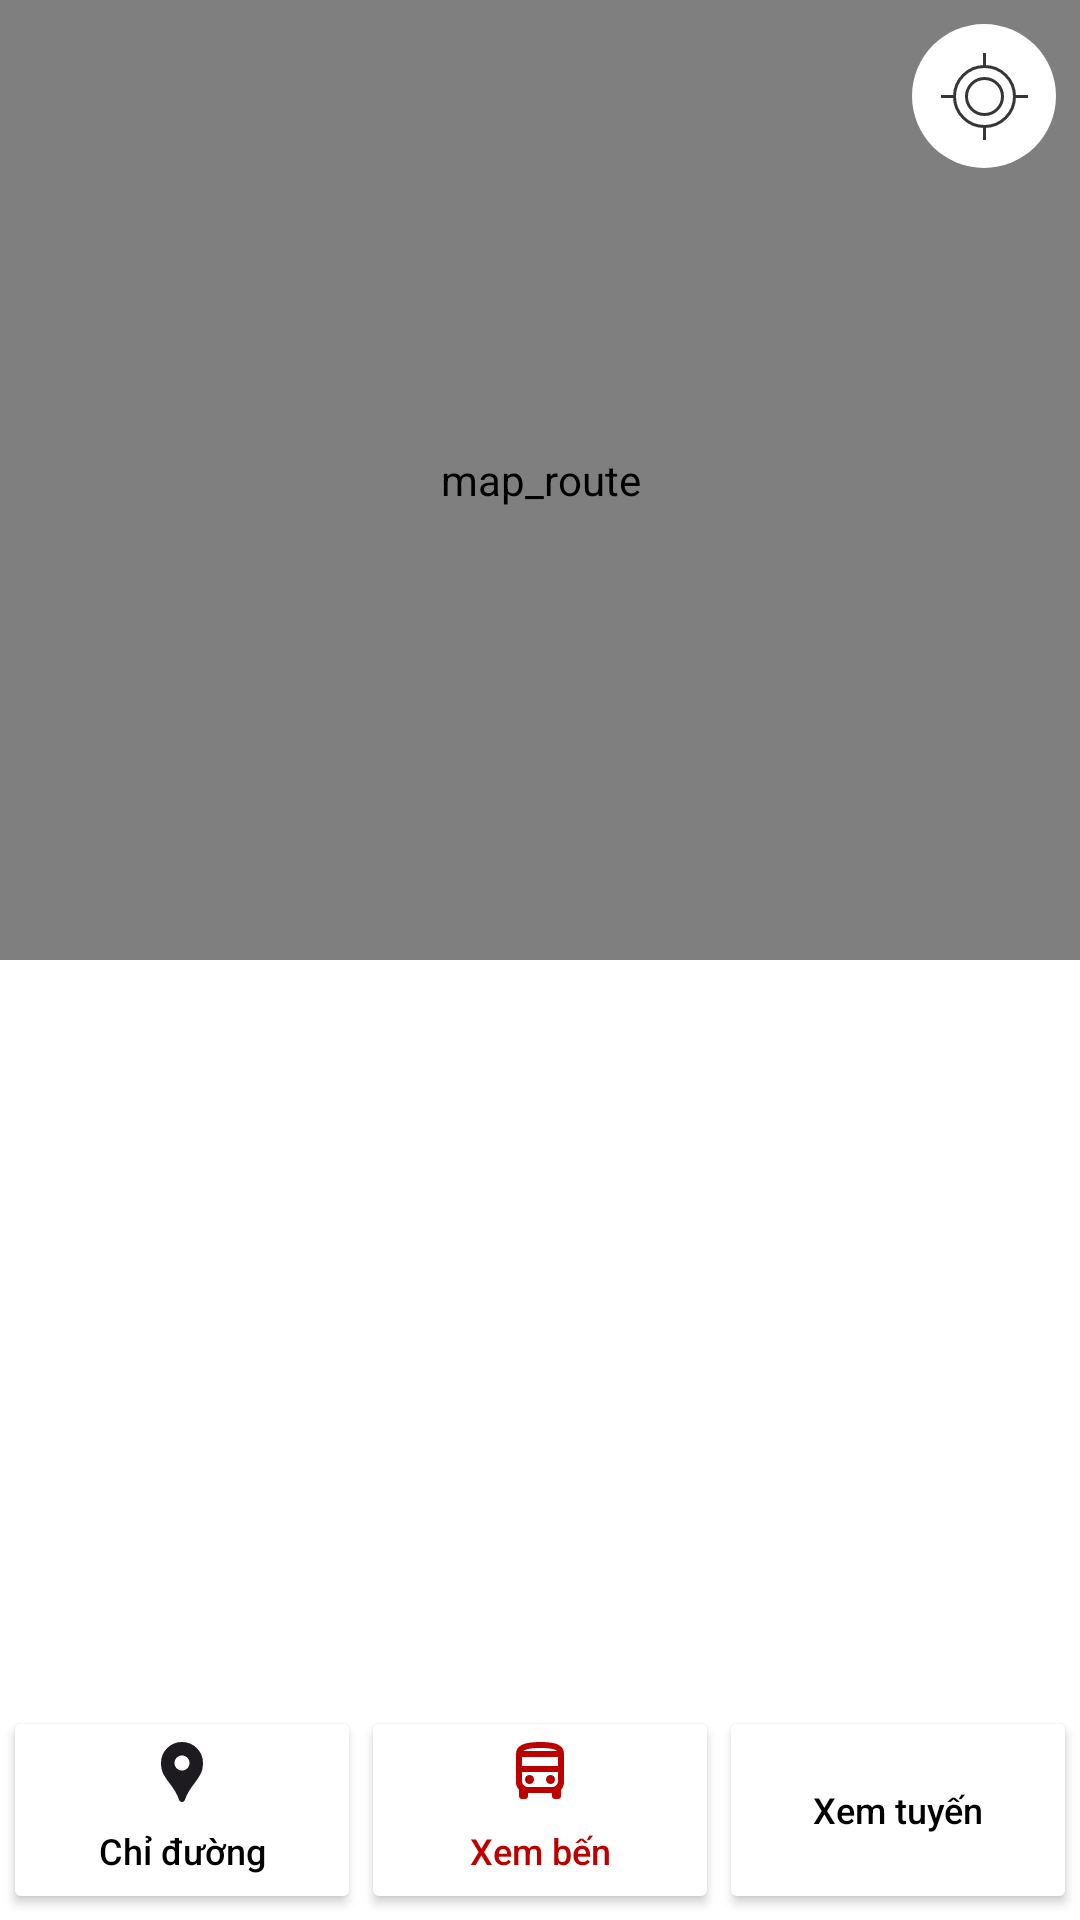

Where icons sit on this 1080 x 1920 app screen, as (x1, y1, x2, y2):
recenter: (912, 24, 1056, 168)
